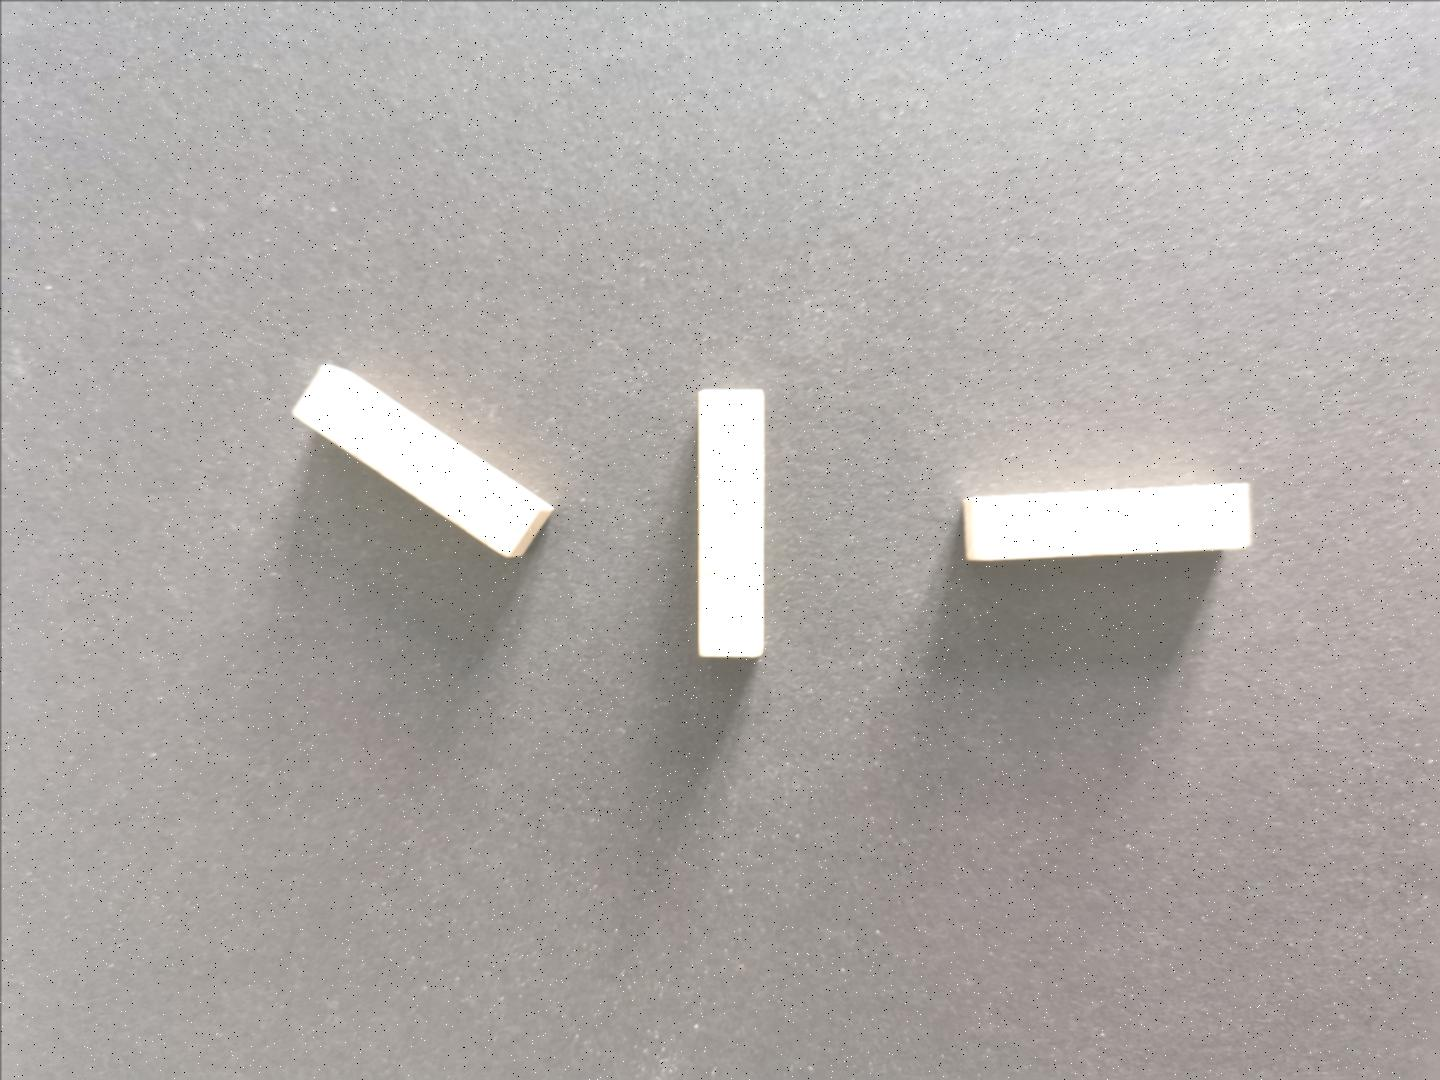jenga: (293, 363, 551, 557), (962, 481, 1248, 559), (697, 388, 762, 656)
